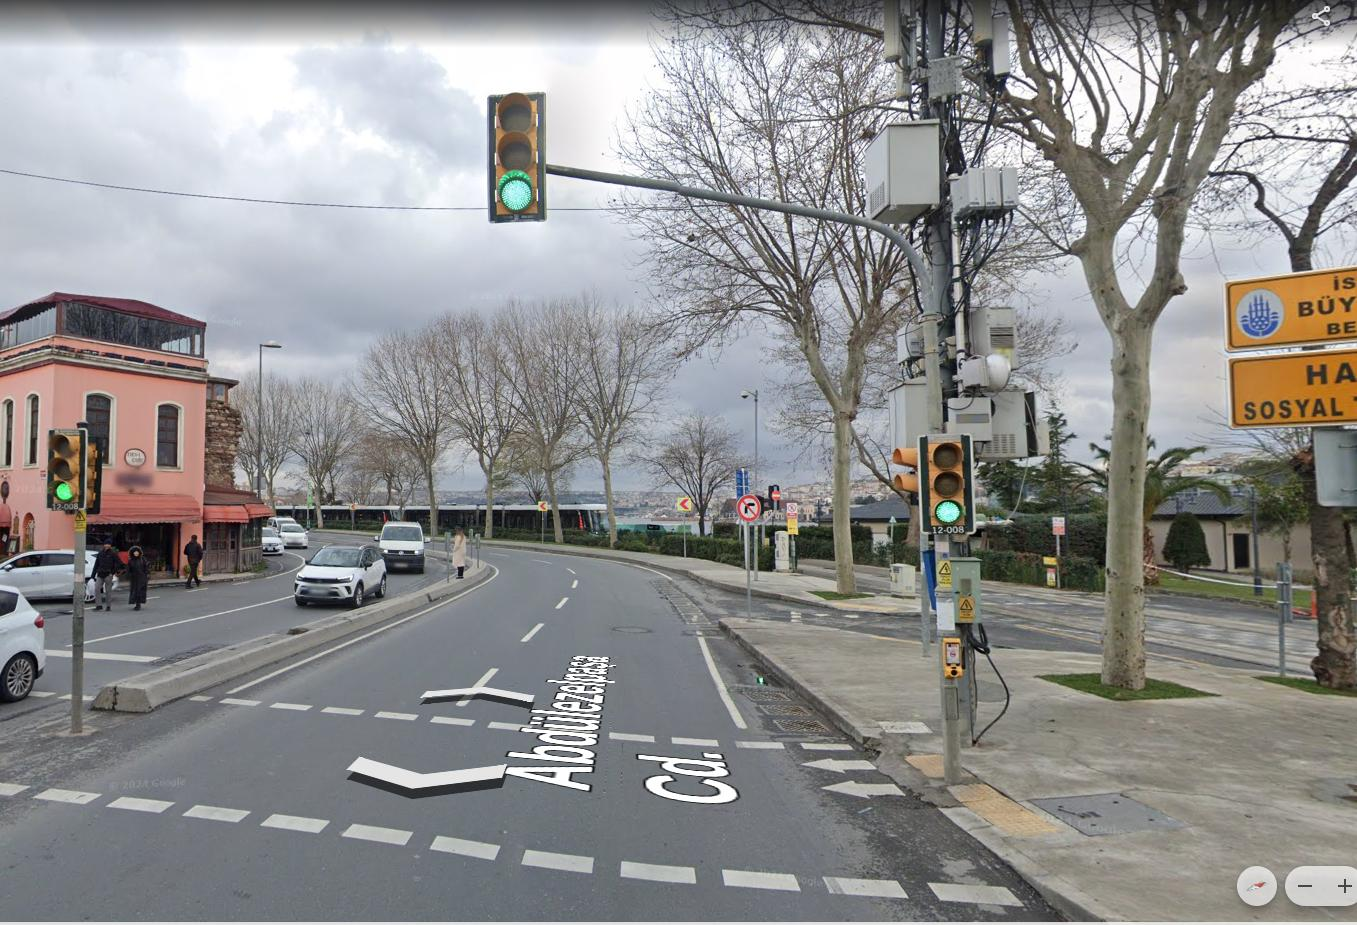greenlight: (493, 93, 540, 213), (928, 444, 972, 523), (48, 431, 84, 503)
